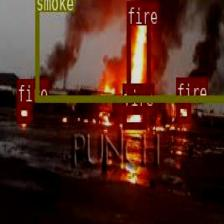fire: (126, 1, 150, 98), (122, 106, 145, 128), (175, 101, 190, 121), (16, 102, 31, 121)
smoke: (34, 0, 224, 100)
